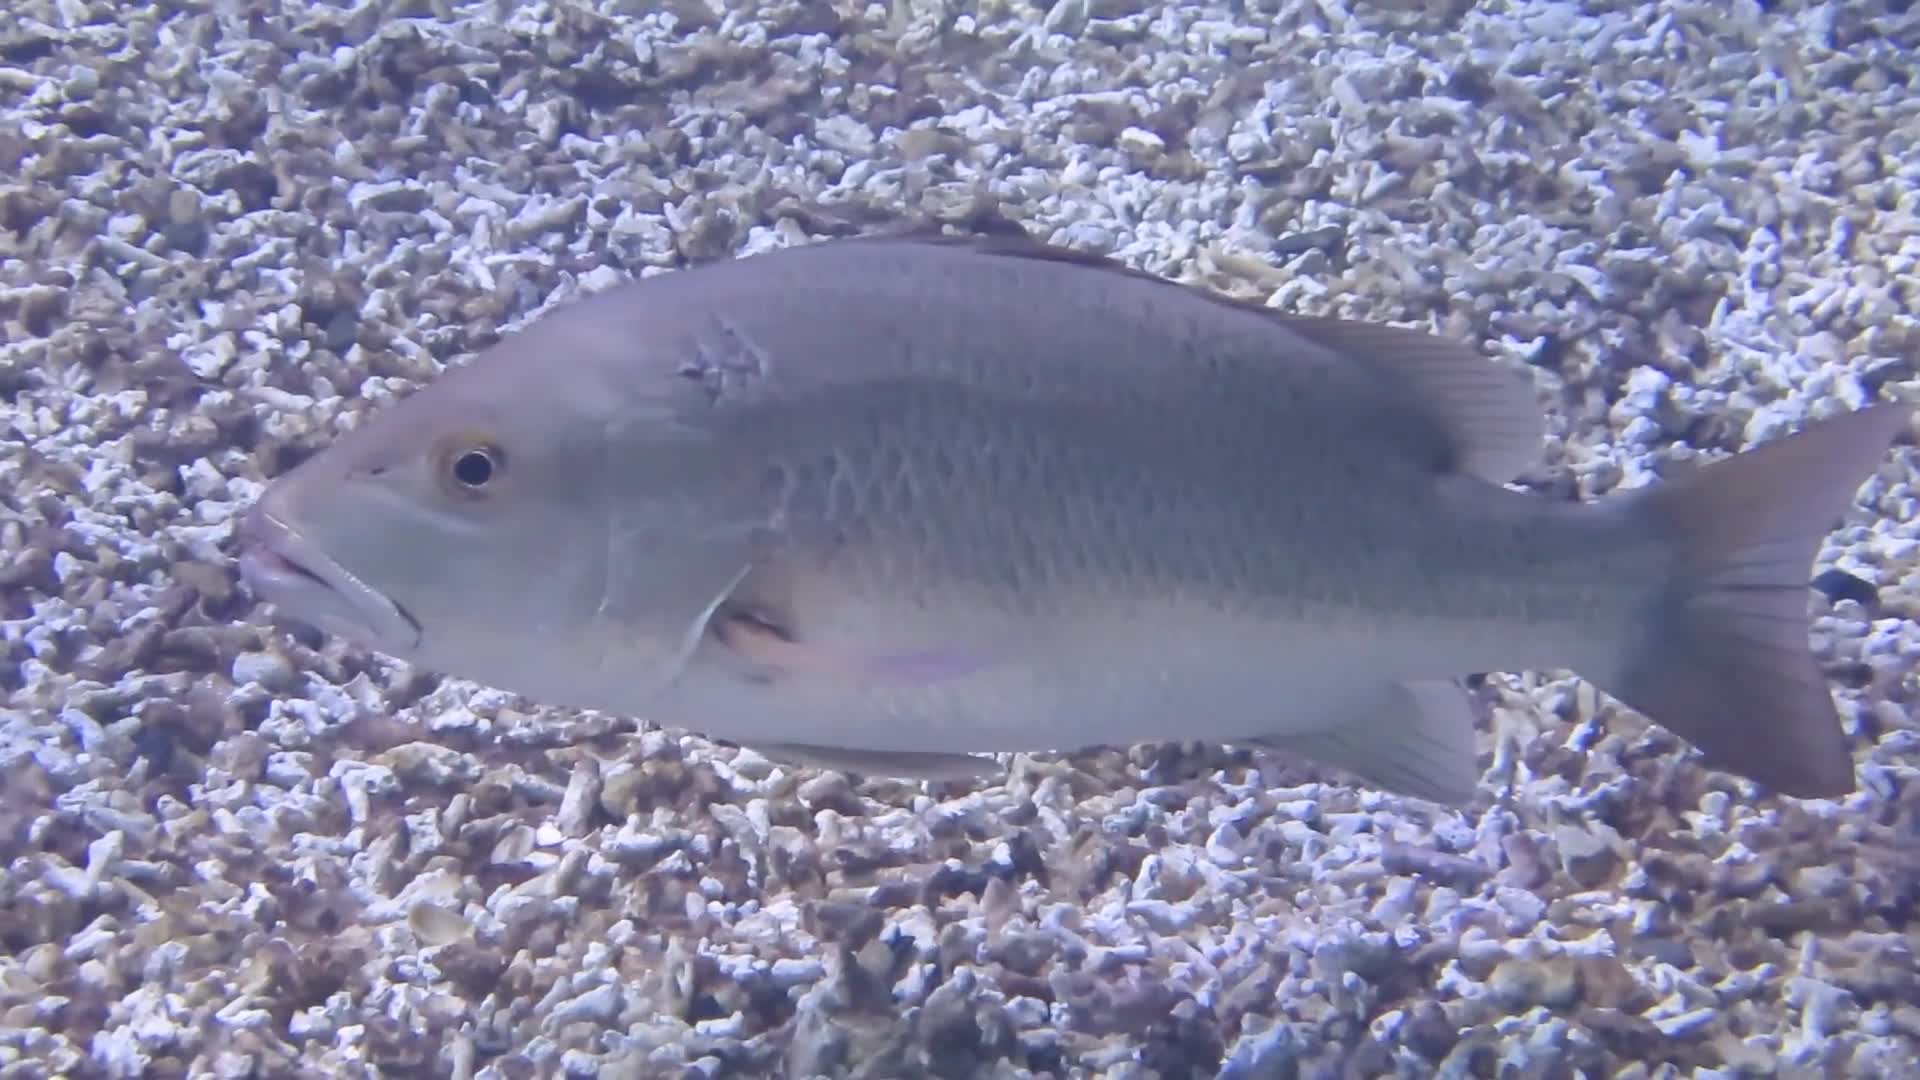Lutjanus argentimaculatus: (251, 218, 1832, 829)
